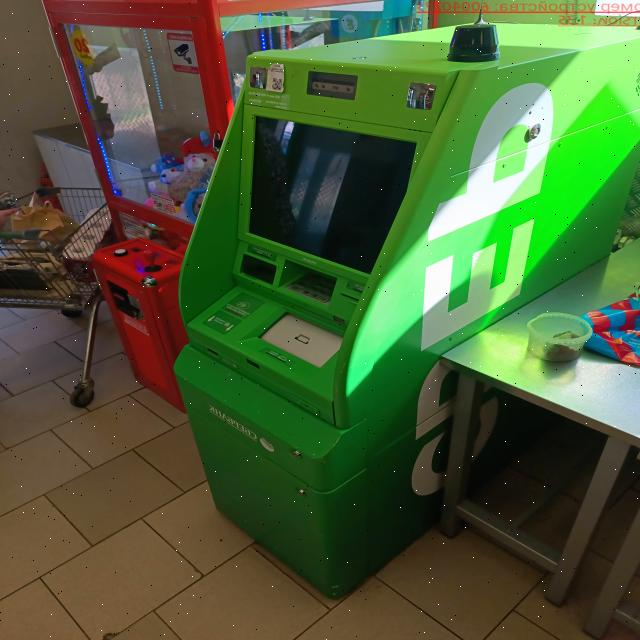bank: (171, 21, 640, 598)
